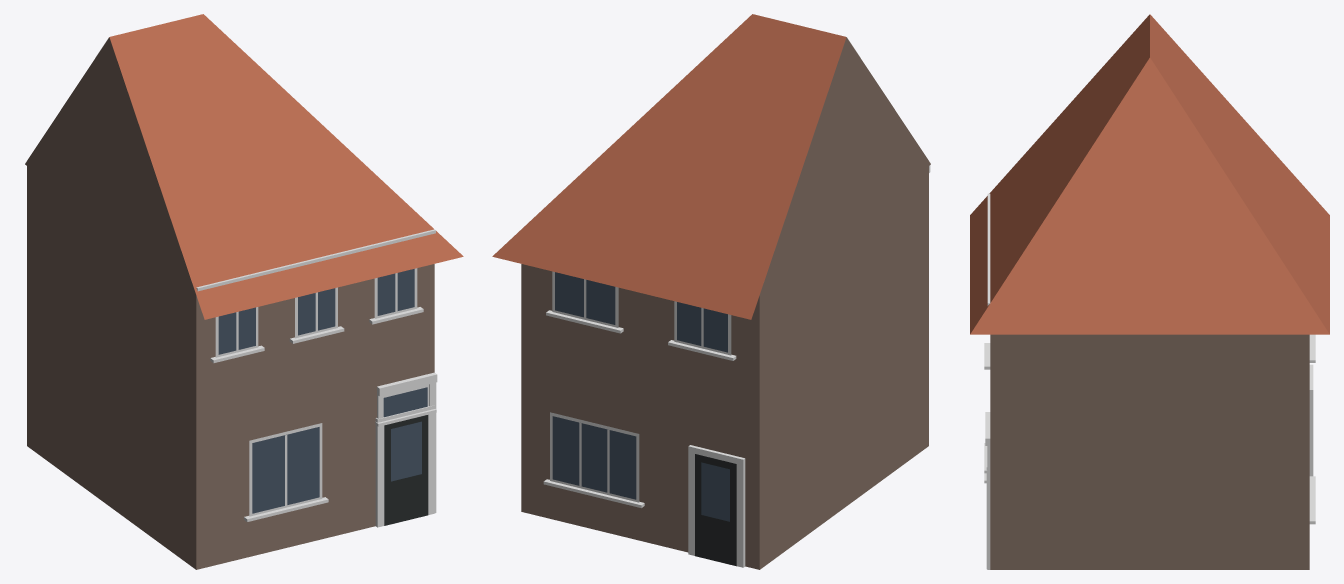
Rendered from nn-row-small__small__2__hip__long__solid__endR__mirror.glb.
The picture shows the model from 3 angles, left to right: view 1: azimuth 30°, elevation 25°; view 2: azimuth 150°, elevation 25°; view 3: azimuth 270°, elevation 25°; orthographic projection. The views are drawn at different scales.
Visible parts, largest first — view 1: nn-row-small__small__2__hip__long__solid__endR__mirror; view 2: nn-row-small__small__2__hip__long__solid__endR__mirror; view 3: nn-row-small__small__2__hip__long__solid__endR__mirror.
Boxes of the visible parts, x1,y1,x2,y2 form: nn-row-small__small__2__hip__long__solid__endR__mirror: [25, 14, 463, 569]; nn-row-small__small__2__hip__long__solid__endR__mirror: [492, 14, 930, 569]; nn-row-small__small__2__hip__long__solid__endR__mirror: [970, 14, 1329, 569].
Bounding box in the file's own units: 5.57 × 9.68 × 7.09.
